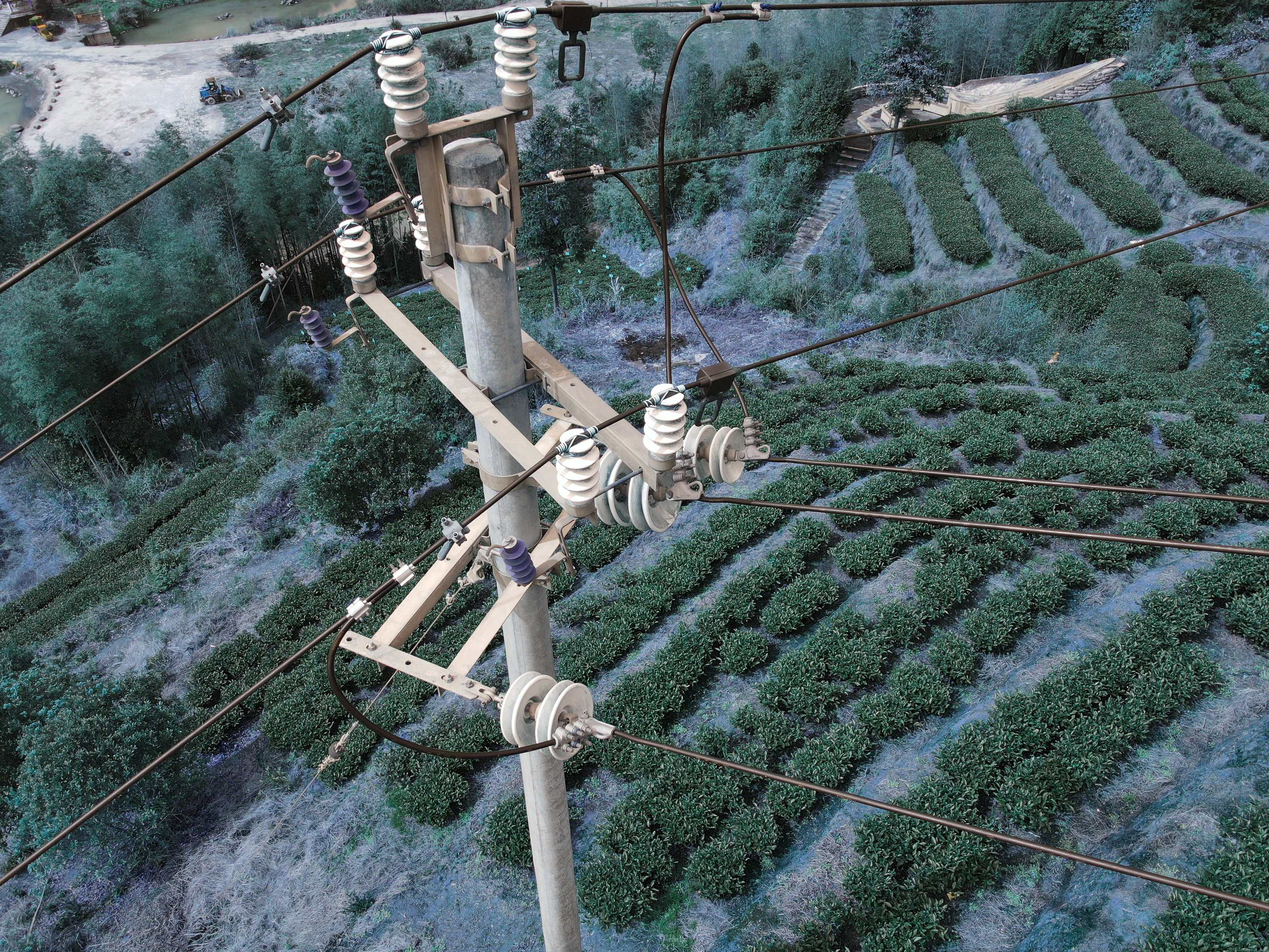severe_soiling_no_discharge_whole: (499, 672, 593, 761), (373, 29, 435, 137), (596, 459, 682, 536), (489, 6, 542, 113), (689, 422, 747, 482)
